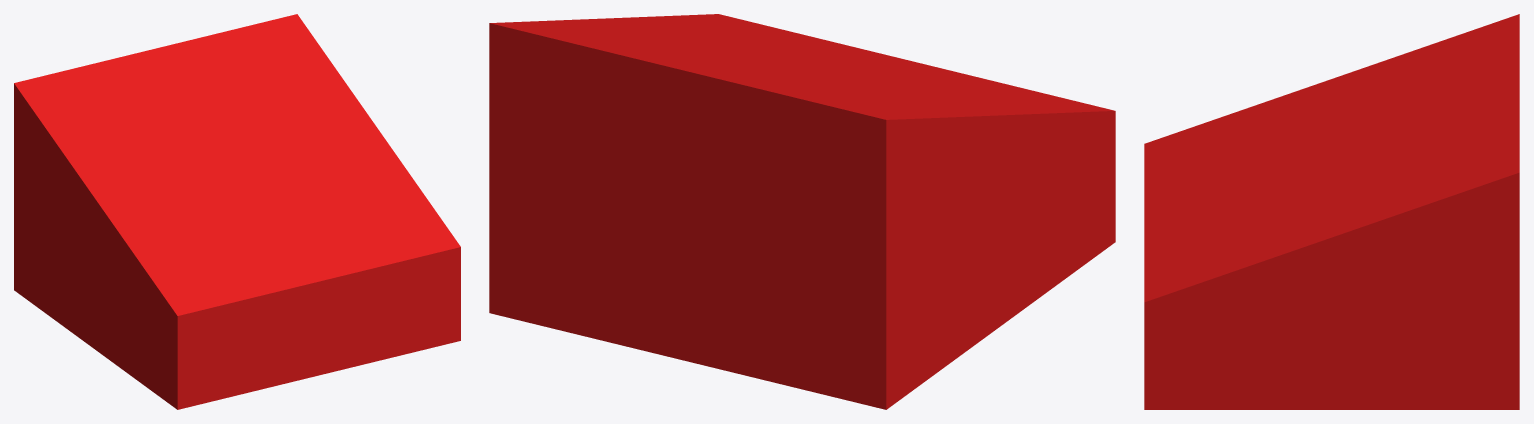
The model's file is Controller_button_red.fbx.
3 views of the same model, side by side, from view 1: azimuth 30°, elevation 25°; view 2: azimuth 150°, elevation 25°; view 3: azimuth 270°, elevation 25° (orthographic). The views are drawn at different scales.
Visible parts, largest first — view 1: pCube3; view 2: pCube3; view 3: pCube3.
Part boxes in pixels (<box>): pCube3: <box>14,14,460,409</box>; pCube3: <box>489,14,1115,409</box>; pCube3: <box>1144,14,1519,409</box>.
Size of the model in its own units: 14 by 9.78 by 14.
